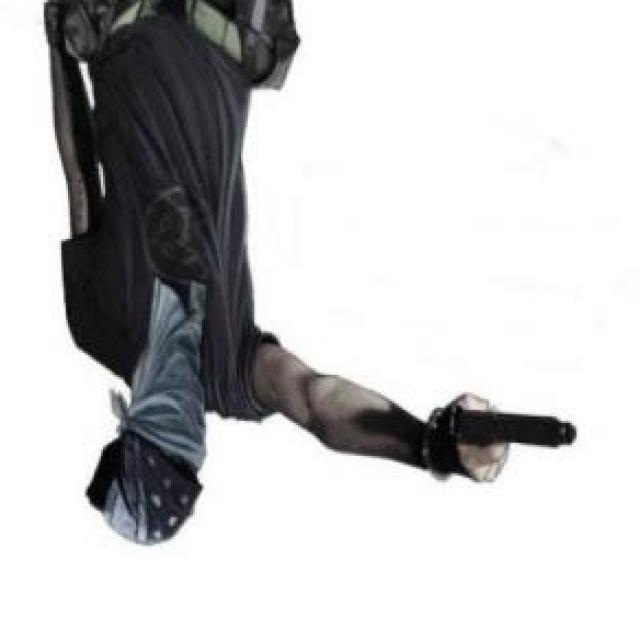pistol: (447, 409, 579, 451)
